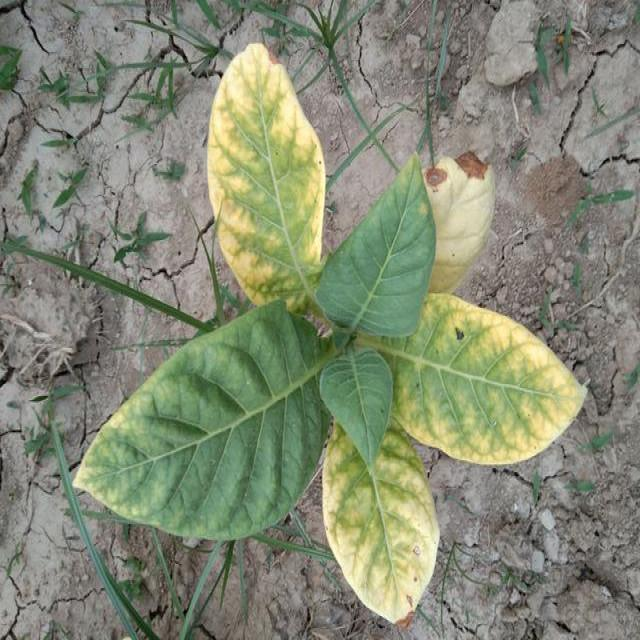crop: (85, 47, 580, 622)
